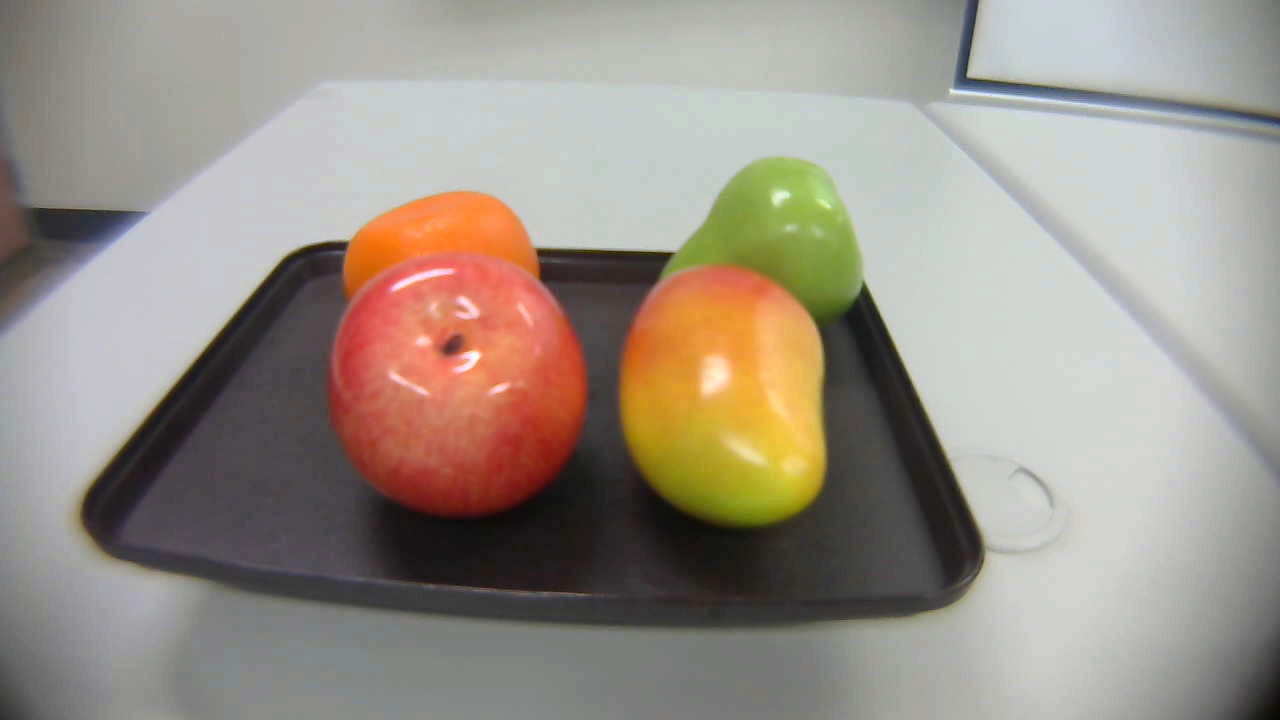green pear: (623, 149, 875, 348)
orange: (325, 184, 565, 324)
red apple: (323, 254, 598, 523)
red mango: (617, 259, 852, 528)
